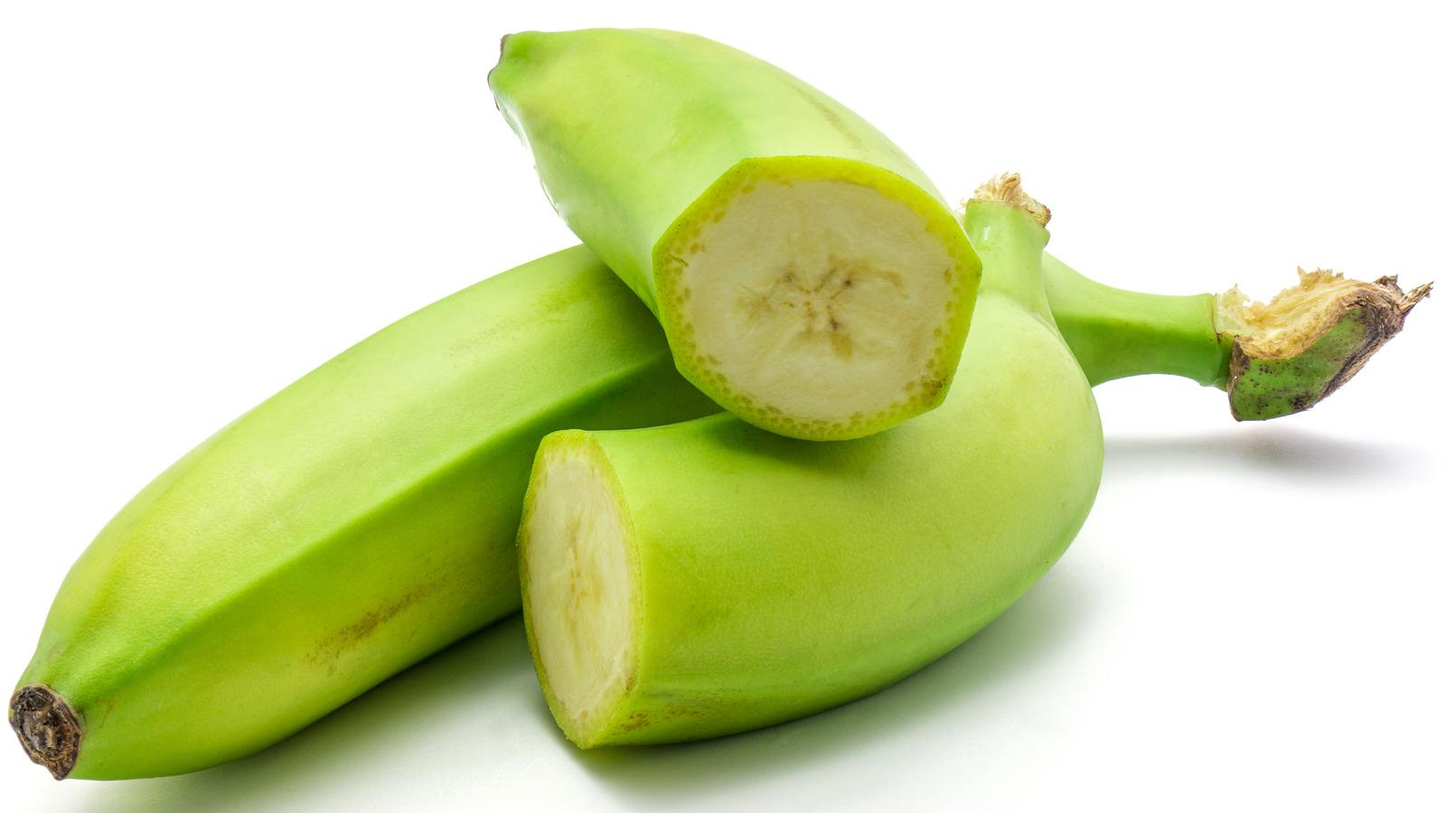Banana Ripe: (29, 246, 651, 763), (491, 352, 1111, 745), (492, 11, 987, 438)
